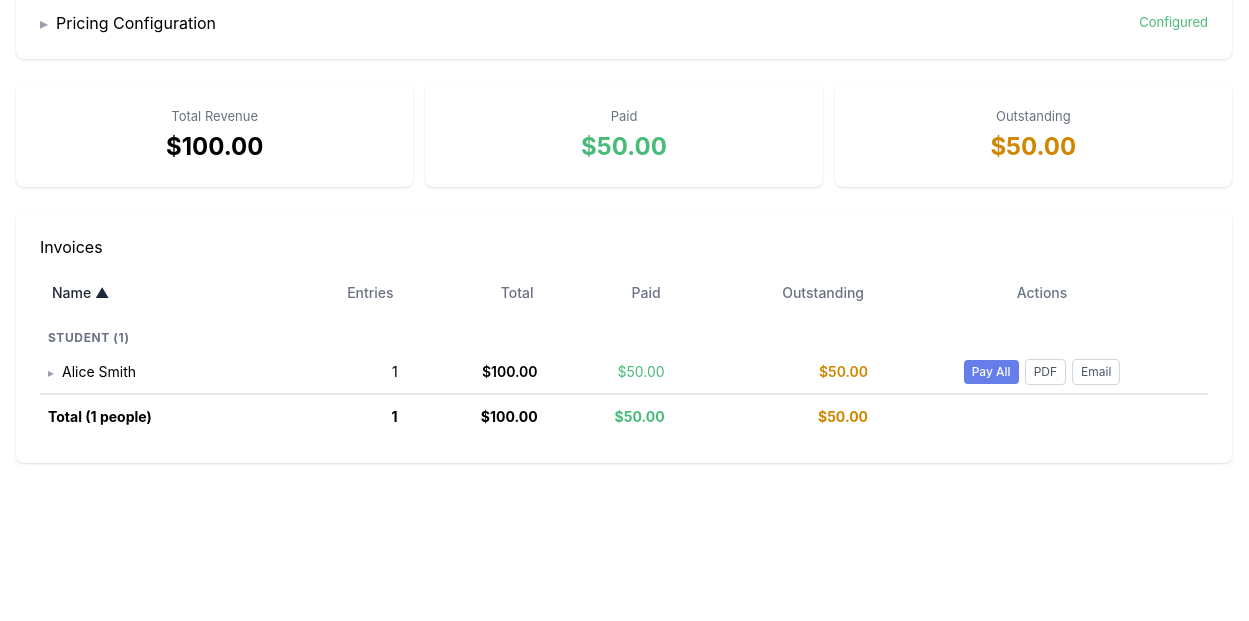
it: InvoicesPage › should expand invoice row to show partnership details on click
Expected: the text "Waltz Open" is not shown
Click the row to expand
Click the text "Alice Smith": click(624, 372) [40,350,1208,394]
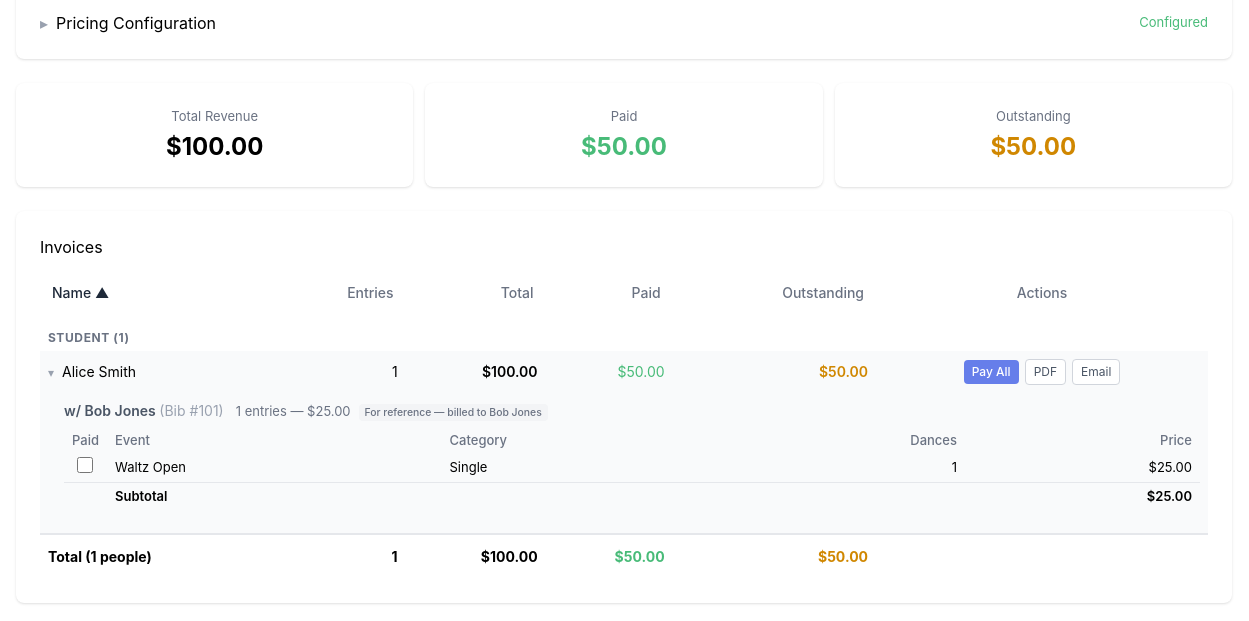
Expected: the text "Waltz Open" is shown, [107,453,442,482]
Expected: the text "w/ Bob Jones" is shown, [64,400,548,420]
